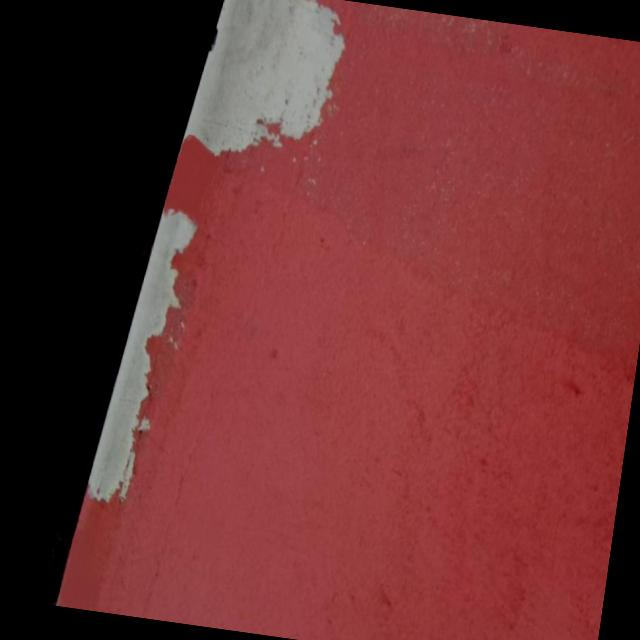surface_peeling: (82, 200, 208, 510), (182, 0, 357, 173)
